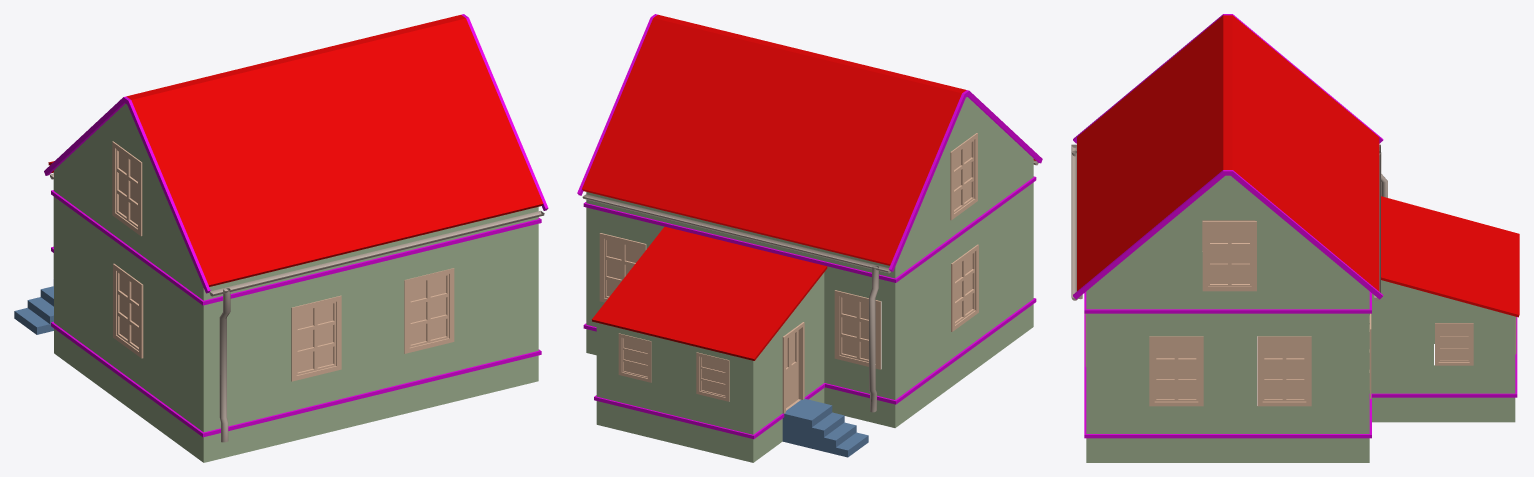
Rendered from House_1.fbx.
3 renders of one model, left to right at view 1: azimuth 30°, elevation 25°; view 2: azimuth 150°, elevation 25°; view 3: azimuth 270°, elevation 25°, orthographic. The views are drawn at different scales.
Visible parts, largest first — view 1: House_1:Front, House_1:House_Entrance_roof, House_1:Door, House_1:White_Board_Bottom, House_1:water_run1, House_1:Stairs; view 2: House_1:House_Entrance_roof, House_1:Front, House_1:Door, House_1:White_Board_Bottom, House_1:Stairs, House_1:water_run1; view 3: House_1:Front, House_1:House_Entrance_roof, House_1:Door, House_1:White_Board_Bottom, House_1:water_run1.
Part boxes in pixels (left/top/right/bottom): House_1:Front: left=53, top=103, right=538, bottom=462; House_1:House_Entrance_roof: left=48, top=15, right=543, bottom=286; House_1:Door: left=112, top=141, right=454, bottom=381; House_1:White_Board_Bottom: left=44, top=14, right=548, bottom=437; House_1:water_run1: left=50, top=173, right=544, bottom=442; House_1:Stairs: left=14, top=278, right=53, bottom=334; House_1:House_Entrance_roof: left=582, top=14, right=1035, bottom=360; House_1:Front: left=586, top=97, right=1033, bottom=462; House_1:Door: left=599, top=133, right=978, bottom=413; House_1:White_Board_Bottom: left=577, top=14, right=1042, bottom=439; House_1:Stairs: left=782, top=398, right=868, bottom=457; House_1:water_run1: left=582, top=160, right=1038, bottom=412; House_1:Front: left=1086, top=175, right=1515, bottom=462; House_1:House_Entrance_roof: left=1077, top=15, right=1519, bottom=317; House_1:Door: left=1085, top=220, right=1516, bottom=406; House_1:White_Board_Bottom: left=1073, top=14, right=1517, bottom=438; House_1:water_run1: left=1071, top=144, right=1387, bottom=300.
Size of the model in its own units: 96.25 by 83.69 by 116.
